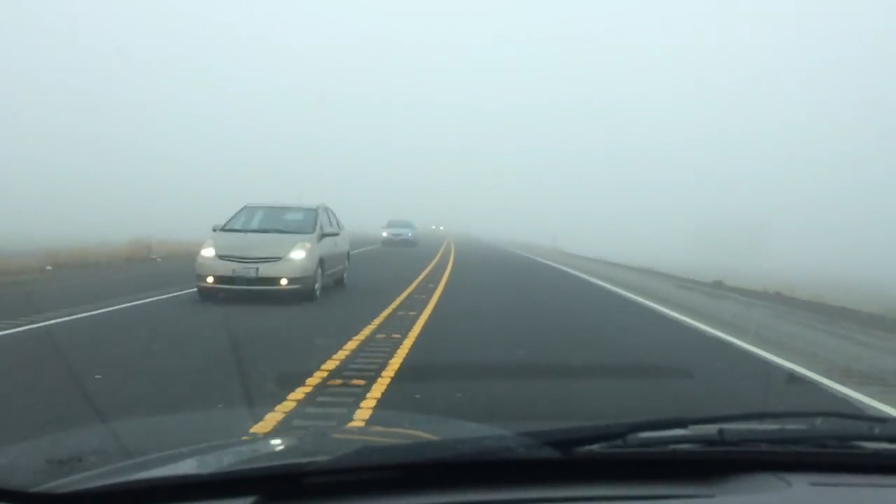car: (194, 202, 354, 302), (379, 218, 418, 248), (429, 223, 447, 236)
